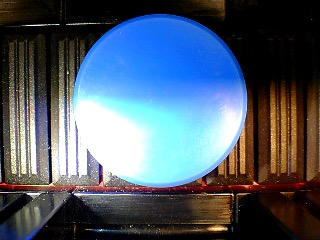BLANK: (73, 13, 248, 188)
